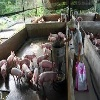heo: (40, 71, 61, 87), (11, 68, 24, 84), (22, 63, 34, 79), (22, 52, 39, 61), (32, 67, 40, 86), (40, 59, 55, 69), (5, 50, 15, 63), (1, 64, 9, 80), (13, 55, 23, 65), (40, 41, 54, 48), (42, 48, 52, 56), (58, 30, 66, 40), (47, 36, 57, 42), (49, 32, 59, 38), (93, 37, 100, 45), (37, 55, 48, 60), (88, 30, 94, 39)
